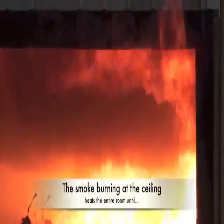fire_h: (57, 151, 197, 224), (154, 2, 196, 147)
